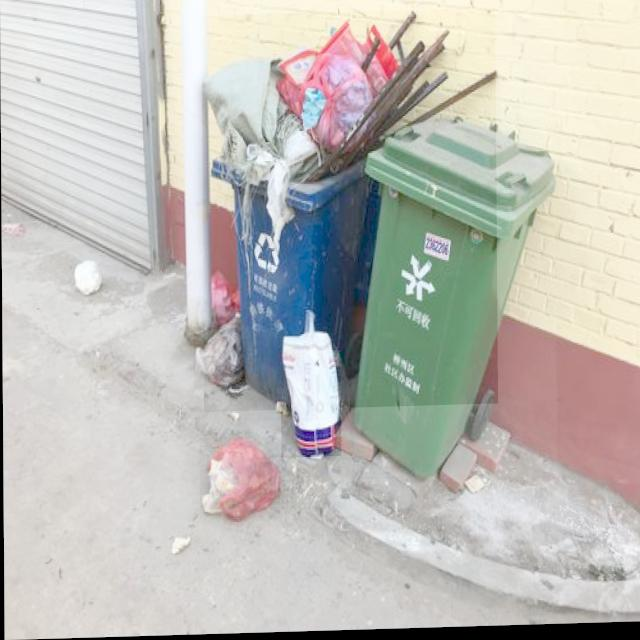garbage: (280, 309, 341, 459), (198, 437, 279, 521), (192, 269, 241, 392)
garbage_bin: (352, 113, 557, 484)
overflow: (201, 10, 498, 413)
